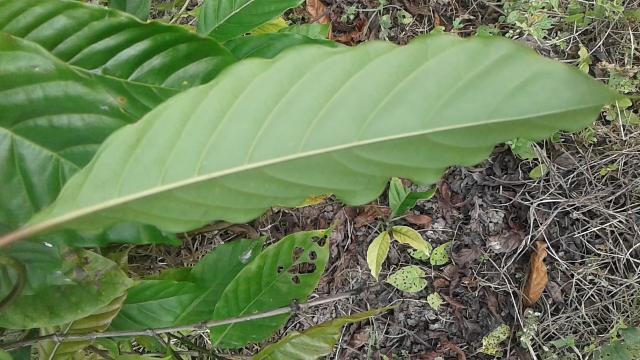healthy: (24, 34, 626, 238)
